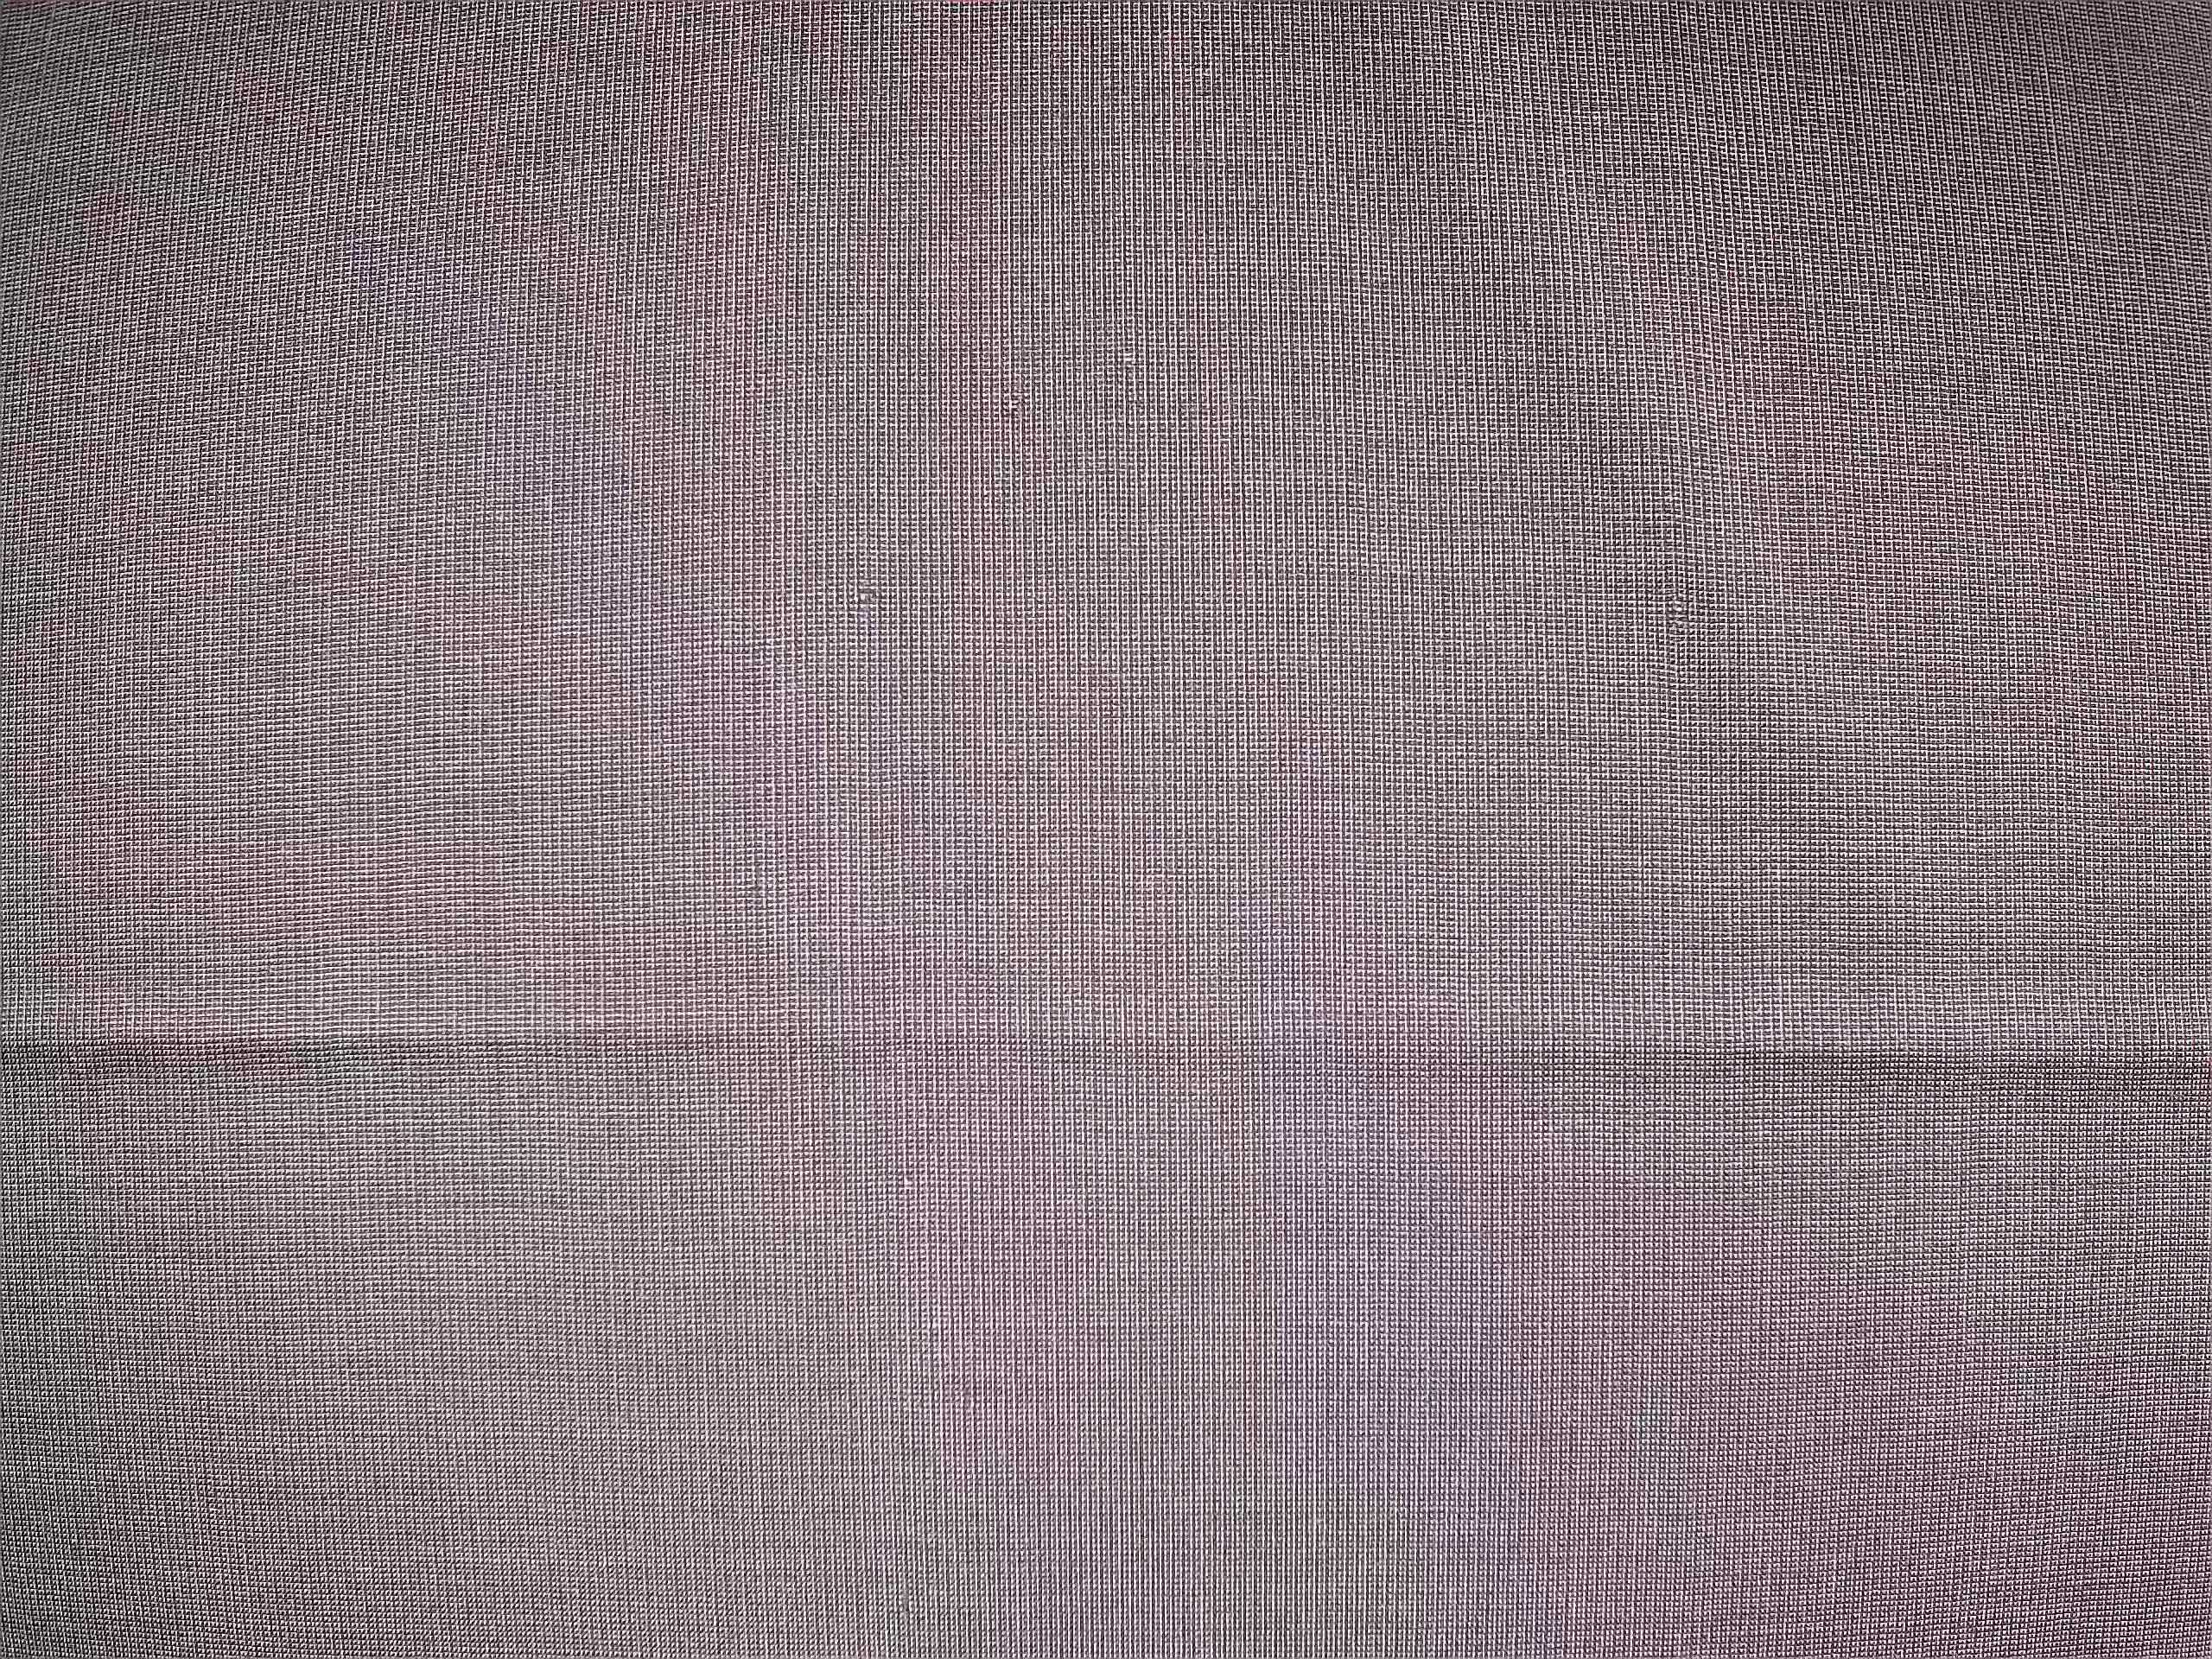rubbing-hole: (1655, 582, 1709, 636), (1649, 474, 1696, 533), (991, 378, 1040, 429), (1106, 331, 1150, 387), (848, 575, 887, 626)
